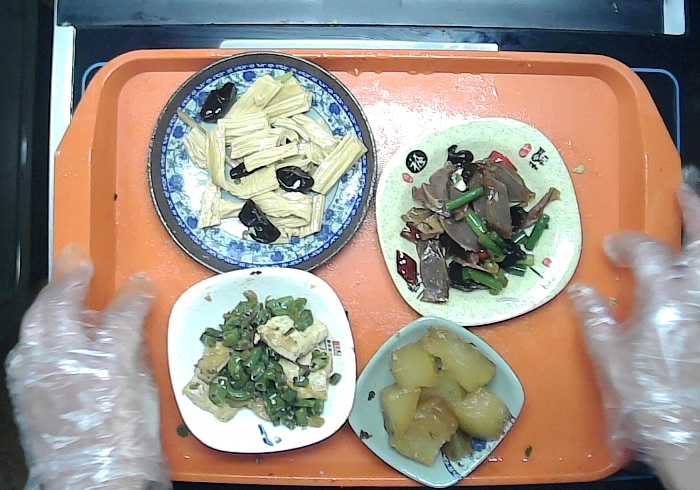NLDX-Bai_Se_Xiao_Fang_Die: (165, 268, 359, 454)
NLDX-Fu_Zi_Fang_Die: (374, 116, 584, 327)
NLDX-Qing_Hua_Xiao_Fang_Die: (347, 316, 529, 490)
NLDX-Qing_Hua_Yuan_Die: (146, 52, 375, 272)
